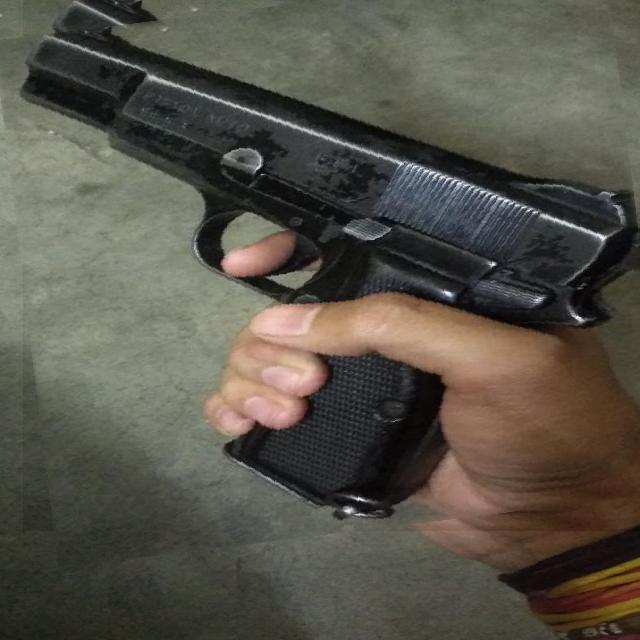handgun: (8, 0, 640, 548)
